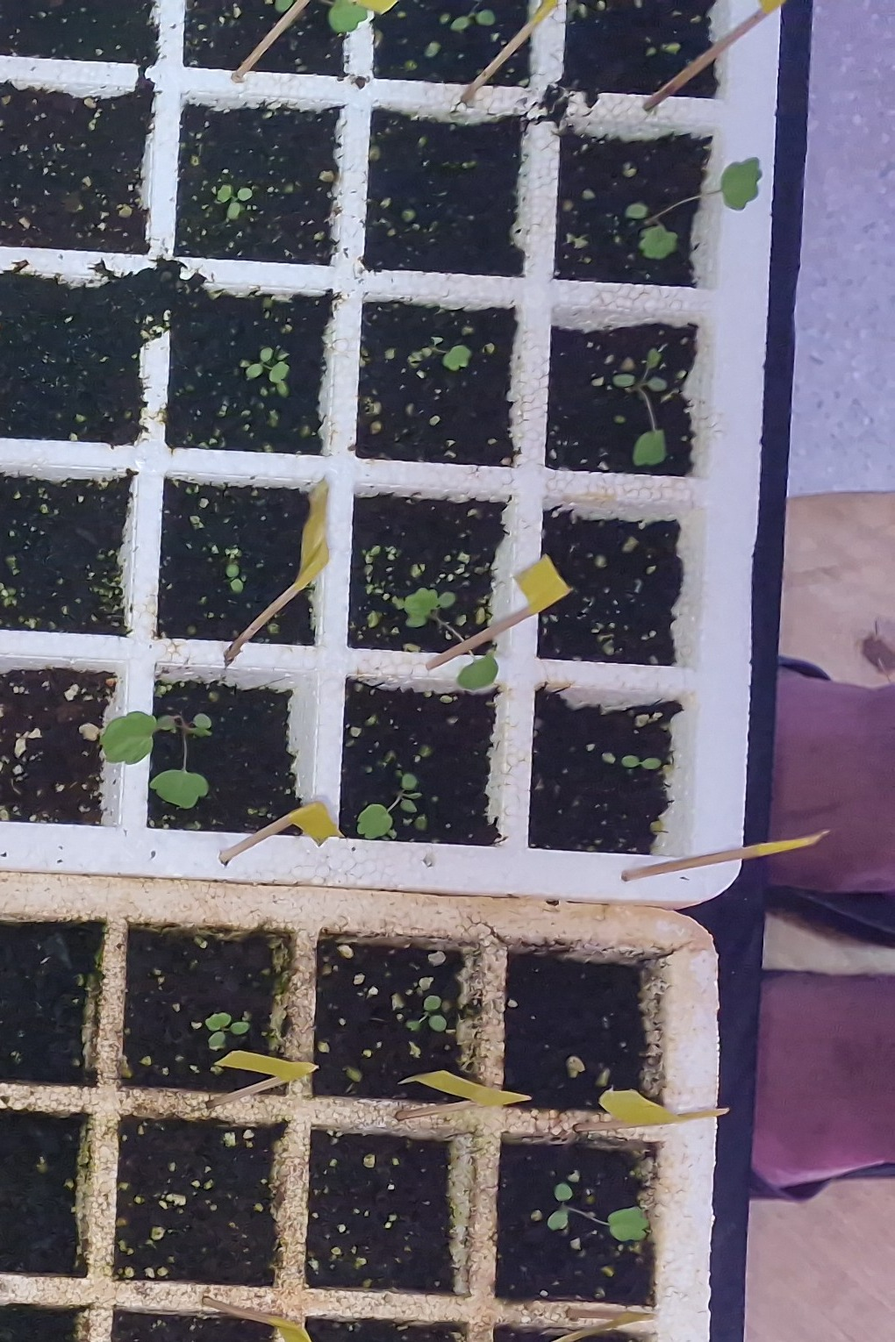Folha: (609, 1208, 649, 1241), (206, 1012, 231, 1031), (548, 1210, 567, 1230), (555, 1183, 572, 1201), (428, 1016, 447, 1031), (209, 1031, 225, 1046), (424, 996, 441, 1010), (231, 1022, 250, 1034), (406, 1021, 420, 1032)
Germinacao: (548, 1183, 650, 1242), (205, 1013, 249, 1046), (406, 996, 447, 1031)
